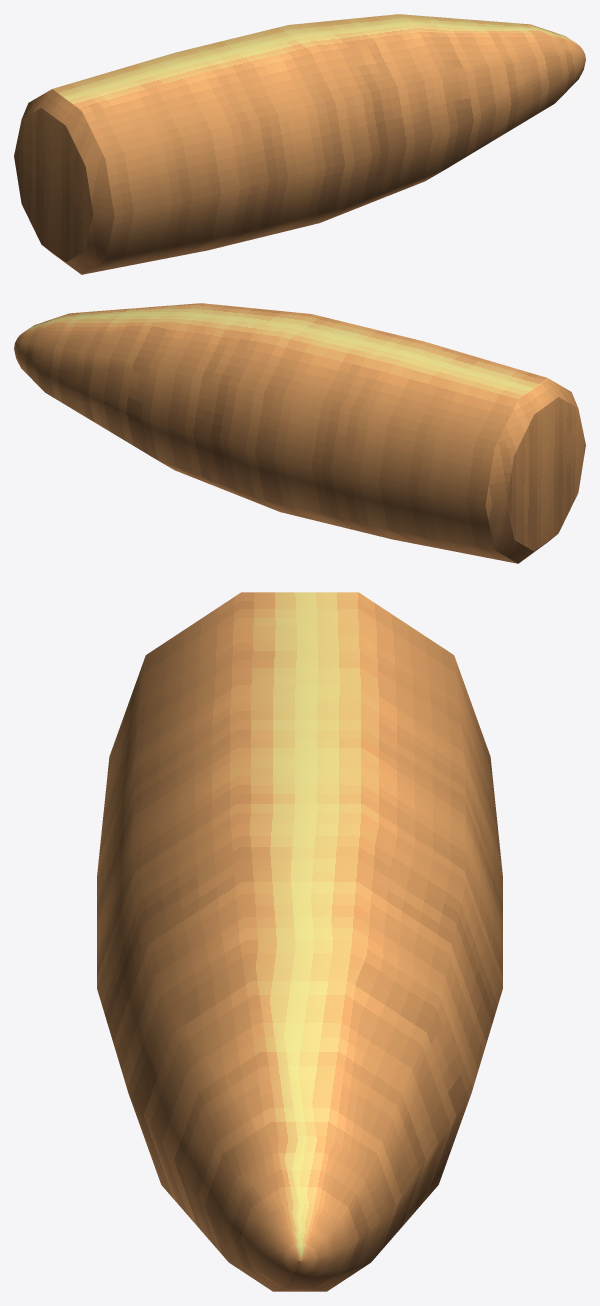
Rendered from ammomaker_BulletRifleS.fbx.
3 views of the same model, one above another, from view 1: azimuth 30°, elevation 25°; view 2: azimuth 150°, elevation 25°; view 3: azimuth 270°, elevation 25° (orthographic). The views are drawn at different scales.
Parts seen in each view (by area): view 1: ammomaker_BulletRifleS; view 2: ammomaker_BulletRifleS; view 3: ammomaker_BulletRifleS.
Part boxes in pixels (x1,y1,x2,y2): ammomaker_BulletRifleS: (14,14,585,274); ammomaker_BulletRifleS: (14,303,585,563); ammomaker_BulletRifleS: (97,592,502,1291).
Size of the model in its own units: 1.72 by 0.5421 by 0.57.
